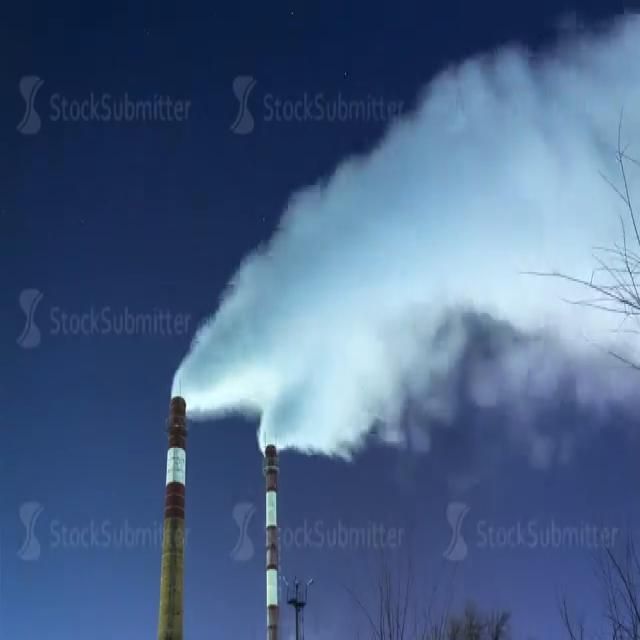smoke: (170, 14, 640, 455)
